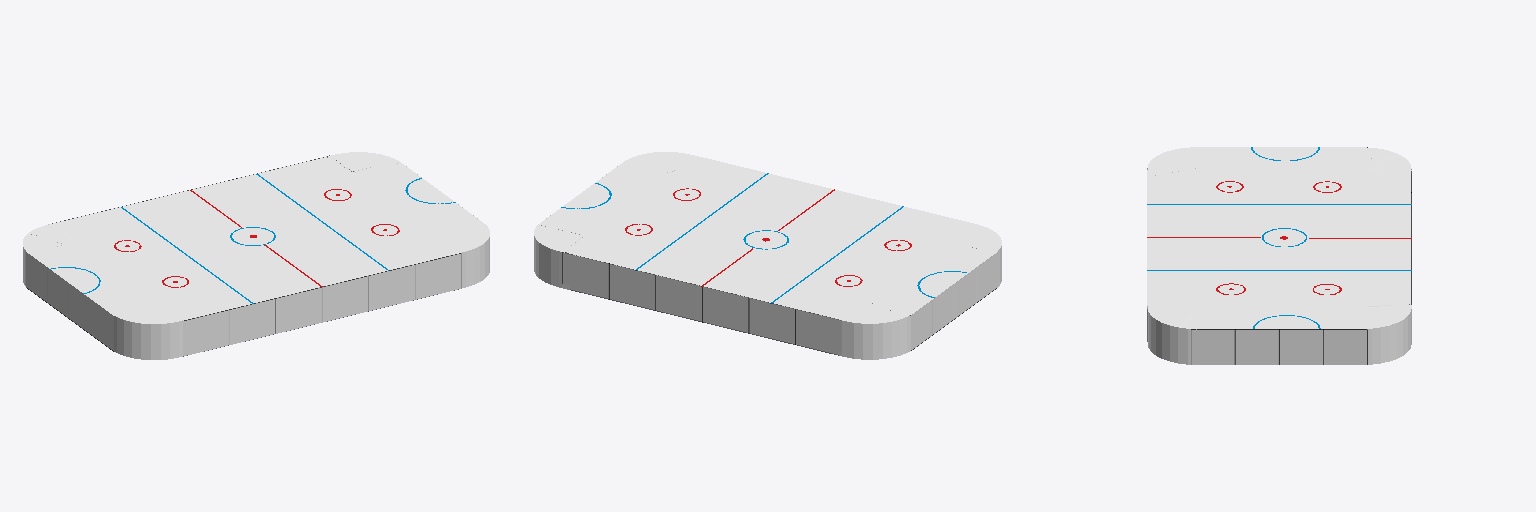
3 views of the same model, side by side, from view 1: azimuth 30°, elevation 25°; view 2: azimuth 150°, elevation 25°; view 3: azimuth 270°, elevation 25° (orthographic).
Parts seen in each view (by area): view 1: Cylinder; view 2: Cylinder; view 3: Cylinder.
Part boxes in pixels (x1,y1,x2,y2): Cylinder: (23, 152, 489, 359); Cylinder: (534, 152, 1001, 359); Cylinder: (1147, 147, 1411, 364).
Bounding box in the file's own units: 6.5 × 0.6033 × 4.01.
2 materials, 1 textured.